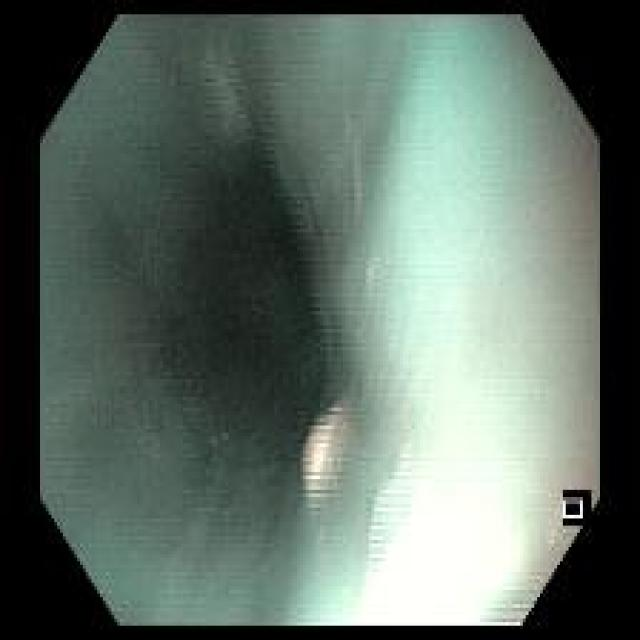blur: (41, 13, 346, 593)
color misalignment: (564, 502, 582, 524)
saturation: (333, 443, 525, 624)
